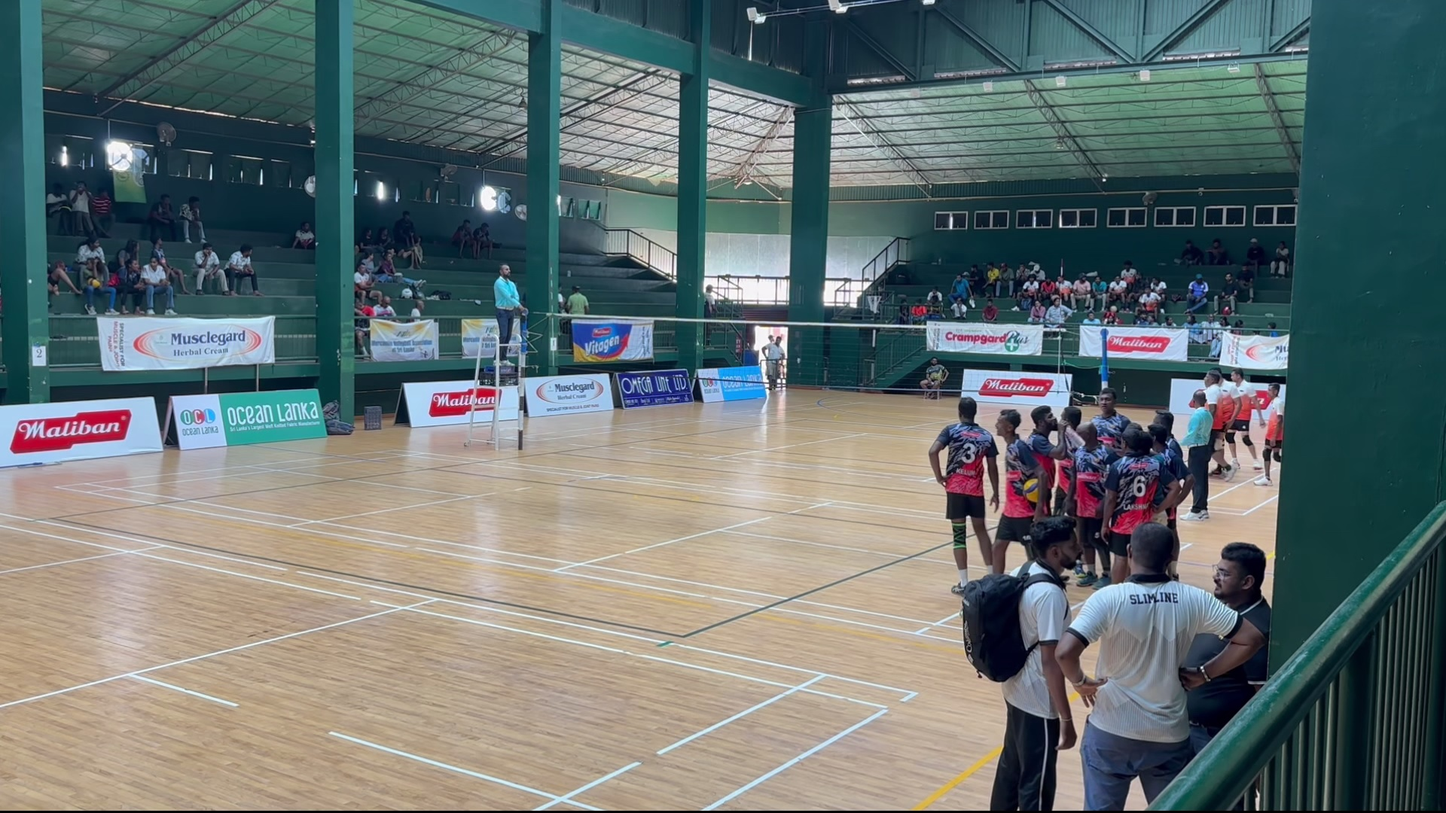Ball: (493, 262, 531, 367)
Payer_B: (933, 396, 997, 580), (1108, 432, 1159, 584), (1101, 430, 1142, 586), (997, 412, 1039, 563), (1072, 426, 1109, 581), (1044, 417, 1075, 530), (1031, 415, 1059, 529)
